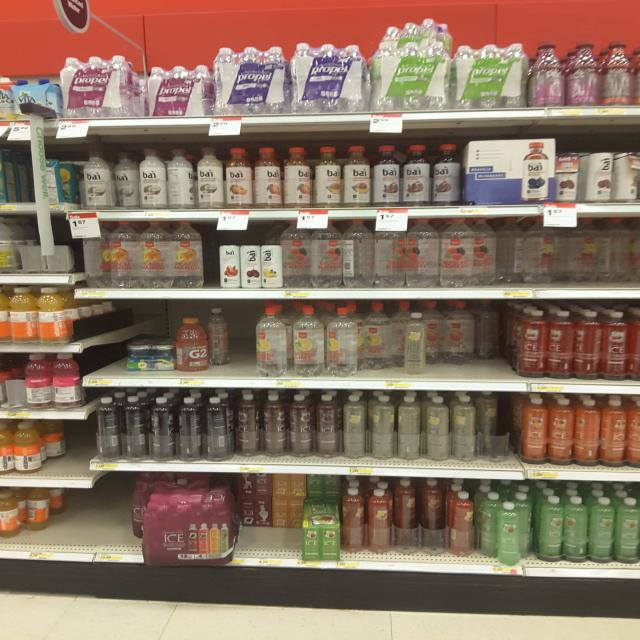void: (90, 492, 135, 564), (86, 311, 120, 385), (56, 489, 88, 563)
